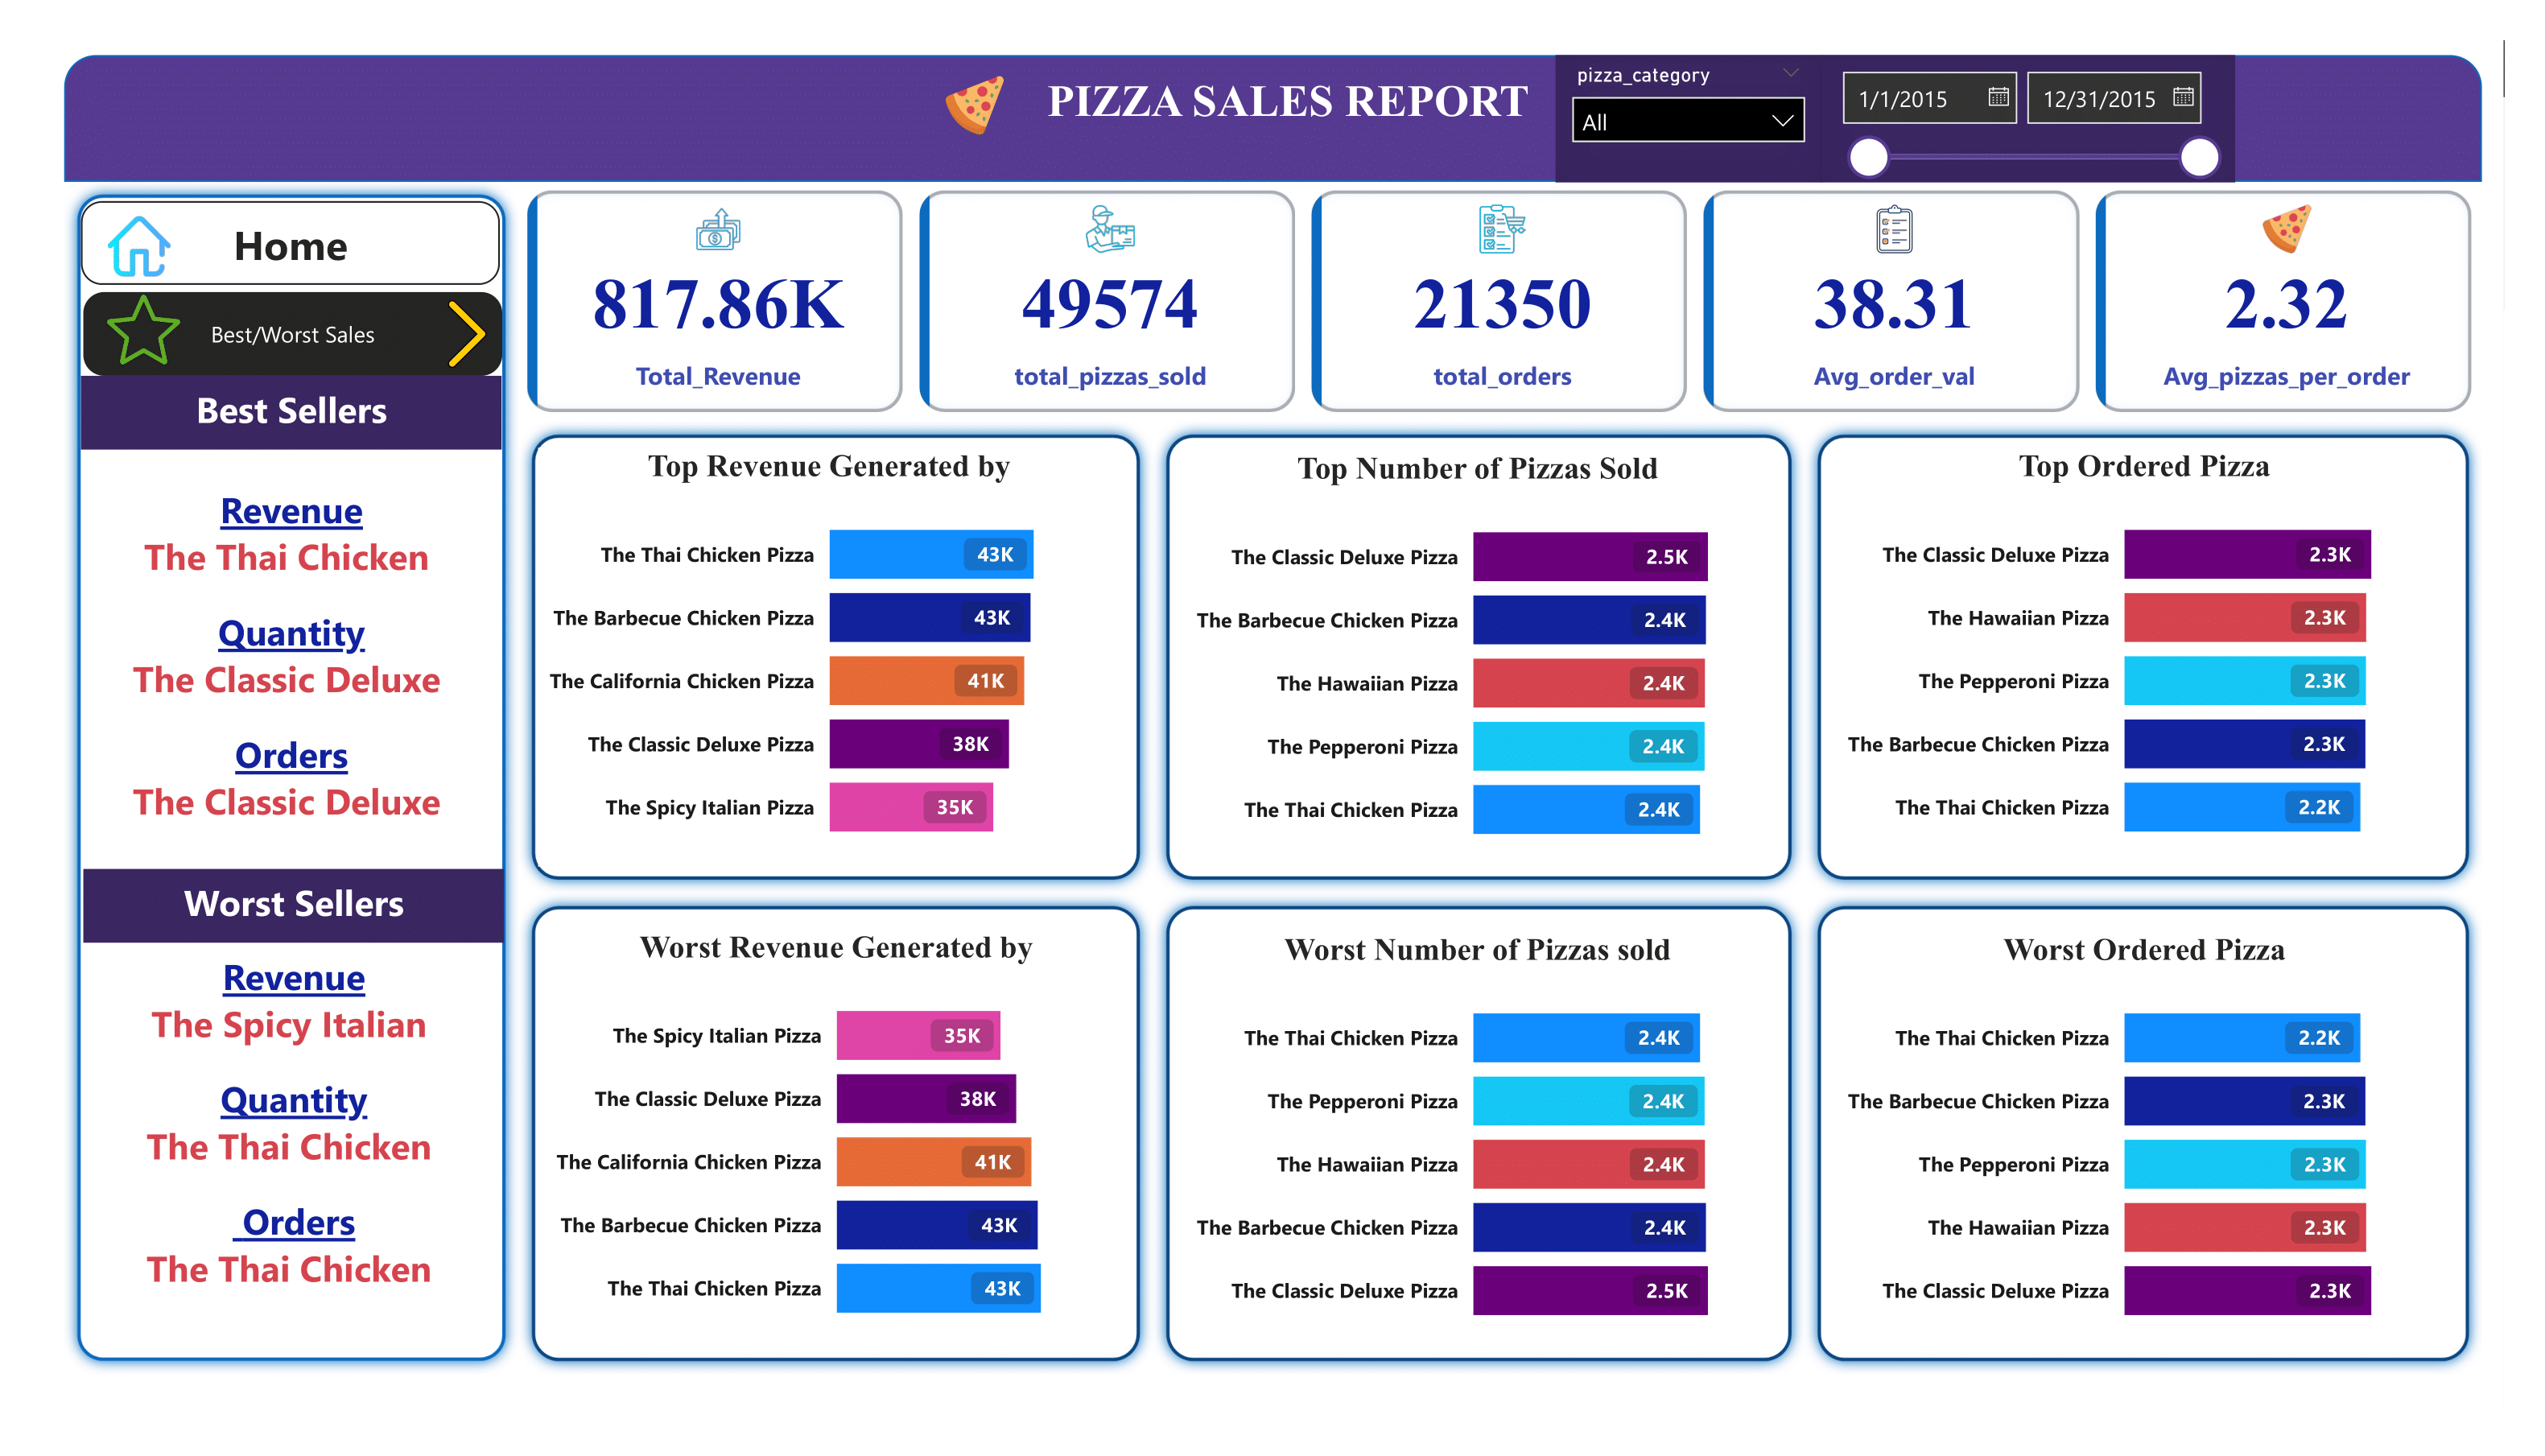

The page's visual inventory and layout, read from the dashboard file:
{"tool":"powerbi","page":{"name":"Best/Worst Sales","canvas":[1470,820],"ordinal":1},"visuals":[{"type":"shape","box":[14.3,8.6,1442.9,75.7],"z":0},{"type":"shape","box":[14.3,84.3,271.4,711.4],"z":1000},{"type":"cardVisual","fields":{"Data":["MyCalculation.Total_Revenue","MyCalculation.total_pizzas_sold","MyCalculation.total_orders","MyCalculation.Avg_order_val","MyCalculation.Avg_pizzas_per_order"]},"box":[285.7,84.3,1171.4,142.9],"z":2000},{"type":"shape","box":[285.7,227.1,378.6,281.4],"z":4000,"group":"g1"},{"type":"shape","box":[664.3,227.1,388.6,281.4],"z":4000,"group":"g3"},{"type":"shape","box":[1052.9,227.1,404.3,281.4],"z":4000,"group":"g5"},{"type":"shape","box":[285.7,508.6,378.6,287.1],"z":4000,"group":"g2"},{"type":"shape","box":[664.3,508.6,388.6,287.1],"z":4000,"group":"g4"},{"type":"shape","box":[1052.9,508.6,404.3,287.1],"z":4000,"group":"g6"},{"type":"textbox","box":[35.7,538.6,231.4,242.9],"z":5000},{"type":"textbox","box":[34.3,242.9,231.4,245.7],"z":6000},{"type":"textbox","box":[24.3,200,251.4,44.3],"z":7000},{"type":"group","id":"g1","title":"Group 1","box":[285.7,227.1,378.6,281.4],"z":9000},{"type":"group","id":"g2","title":"Group 1","box":[285.7,508.6,378.6,287.1],"z":10000},{"type":"textbox","box":[25.7,494.3,251.4,44.3],"z":11000},{"type":"group","id":"g3","title":"Group 1","box":[664.3,227.1,388.6,281.4],"z":13000},{"type":"group","id":"g4","title":"Group 1","box":[664.3,508.6,388.6,287.1],"z":14000},{"type":"group","id":"g5","title":"Group 1","box":[1052.9,227.1,404.3,281.4],"z":15000},{"type":"group","id":"g6","title":"Group 1","box":[1052.9,508.6,404.3,287.1],"z":16000},{"type":"barChart","title":"Top Revenue Generated by","fields":{"Y":["MyCalculation.Total_Revenue"],"Category":["pizza_sales.pizza_name"],"Series":["pizza_sales.pizza_name"]},"box":[297.6,242.7,347.1,250],"z":17000},{"type":"barChart","title":"Top Number of Pizzas Sold","fields":{"Y":["MyCalculation.total_pizzas_sold"],"Category":["pizza_sales.pizza_name"],"Series":["pizza_sales.pizza_name"]},"box":[684.3,244.3,347.1,250],"z":18000},{"type":"barChart","title":"Top Ordered Pizza","fields":{"Y":["MyCalculation.total_orders"],"Category":["pizza_sales.pizza_name"],"Series":["pizza_sales.pizza_name"]},"box":[1072.9,242.9,365.7,250],"z":19000},{"type":"barChart","title":"Worst Revenue Generated by","fields":{"Y":["MyCalculation.Total_Revenue"],"Category":["pizza_sales.pizza_name"],"Series":["pizza_sales.pizza_name"]},"box":[301.4,530,347.1,250],"z":20000},{"type":"barChart","title":"Worst Number of Pizzas sold","fields":{"Y":["MyCalculation.total_pizzas_sold"],"Category":["pizza_sales.pizza_name"],"Series":["pizza_sales.pizza_name"]},"box":[684.3,531.4,347.1,250],"z":21000},{"type":"barChart","title":"Worst Ordered Pizza","fields":{"Y":["MyCalculation.total_orders"],"Category":["pizza_sales.pizza_name"],"Series":["pizza_sales.pizza_name"]},"box":[1072.9,531.4,365.7,250],"z":22000},{"type":"pageNavigator","box":[24.3,95.7,250,50],"z":23000},{"type":"pageNavigator","box":[25.7,150,250,50],"z":24000},{"type":"image","box":[212.9,150,84.3,50],"z":25000},{"type":"image","box":[34.3,145.7,55.7,52.9],"z":26000},{"type":"image","box":[35.7,74.3,47.1,97.1],"z":27000},{"type":"textbox","box":[595.7,15.7,310,45.7],"z":27500},{"type":"image","box":[495.7,15.7,124.3,45.7],"z":28000},{"type":"slicer","fields":{"Values":["pizza_sales.pizza_category"]},"box":[904.3,8.6,158.6,75.7],"z":28500},{"type":"slicer","fields":{"Values":["pizza_sales.order_date"]},"box":[1062.9,8.6,247.1,75.7],"z":29000}]}

Visuals, with their boxes on the page's 1470x820 design canvas (x1, y1, x2, y2). These are canvas units, not pixel positions in the 2545x1456 screenshot, which may show the page scaled, cropped or inside an application window:
shape: (left=14, top=9, right=1457, bottom=84)
shape: (left=14, top=84, right=286, bottom=796)
cardVisual - MyCalculation.Total_Revenue x MyCalculation.total_pizzas_sold: (left=286, top=84, right=1457, bottom=227)
shape: (left=286, top=227, right=664, bottom=508)
shape: (left=664, top=227, right=1053, bottom=508)
shape: (left=1053, top=227, right=1457, bottom=508)
shape: (left=286, top=509, right=664, bottom=796)
shape: (left=664, top=509, right=1053, bottom=796)
shape: (left=1053, top=509, right=1457, bottom=796)
textbox: (left=36, top=539, right=267, bottom=782)
textbox: (left=34, top=243, right=266, bottom=489)
textbox: (left=24, top=200, right=276, bottom=244)
"Group 1" group: (left=286, top=227, right=664, bottom=508)
"Group 1" group: (left=286, top=509, right=664, bottom=796)
textbox: (left=26, top=494, right=277, bottom=539)
"Group 1" group: (left=664, top=227, right=1053, bottom=508)
"Group 1" group: (left=664, top=509, right=1053, bottom=796)
"Group 1" group: (left=1053, top=227, right=1457, bottom=508)
"Group 1" group: (left=1053, top=509, right=1457, bottom=796)
"Top Revenue Generated by" barChart: (left=298, top=243, right=645, bottom=493)
"Top Number of Pizzas Sold" barChart: (left=684, top=244, right=1031, bottom=494)
"Top Ordered Pizza" barChart: (left=1073, top=243, right=1439, bottom=493)
"Worst Revenue Generated by" barChart: (left=301, top=530, right=648, bottom=780)
"Worst Number of Pizzas sold" barChart: (left=684, top=531, right=1031, bottom=781)
"Worst Ordered Pizza" barChart: (left=1073, top=531, right=1439, bottom=781)
pageNavigator: (left=24, top=96, right=274, bottom=146)
pageNavigator: (left=26, top=150, right=276, bottom=200)
image: (left=213, top=150, right=297, bottom=200)
image: (left=34, top=146, right=90, bottom=199)
image: (left=36, top=74, right=83, bottom=171)
textbox: (left=596, top=16, right=906, bottom=61)
image: (left=496, top=16, right=620, bottom=61)
slicer - pizza_sales.pizza_category: (left=904, top=9, right=1063, bottom=84)
slicer - pizza_sales.order_date: (left=1063, top=9, right=1310, bottom=84)
